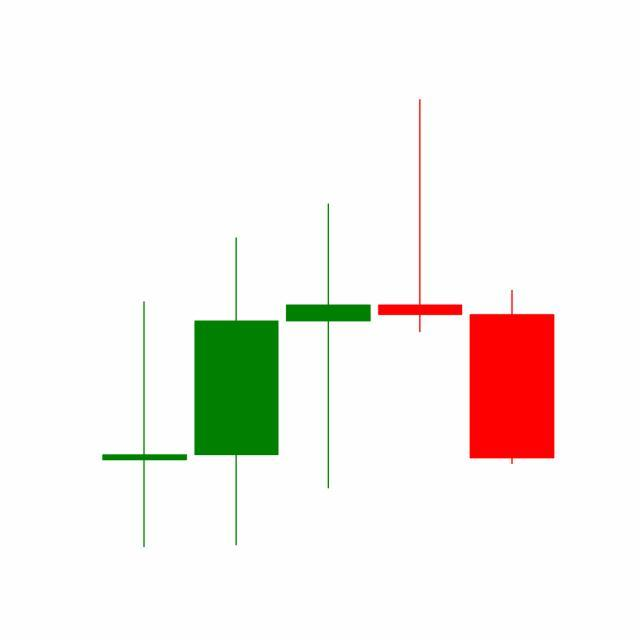Marubozu: (466, 289, 559, 468)
